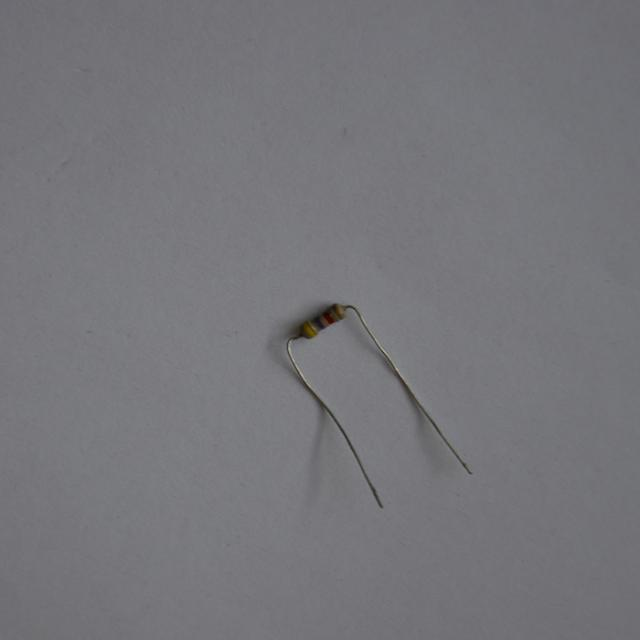gold: (331, 303, 344, 319)
red: (321, 311, 333, 325)
resistor: (279, 300, 350, 345)
violet: (313, 318, 322, 331)
yellow: (304, 321, 316, 337)
